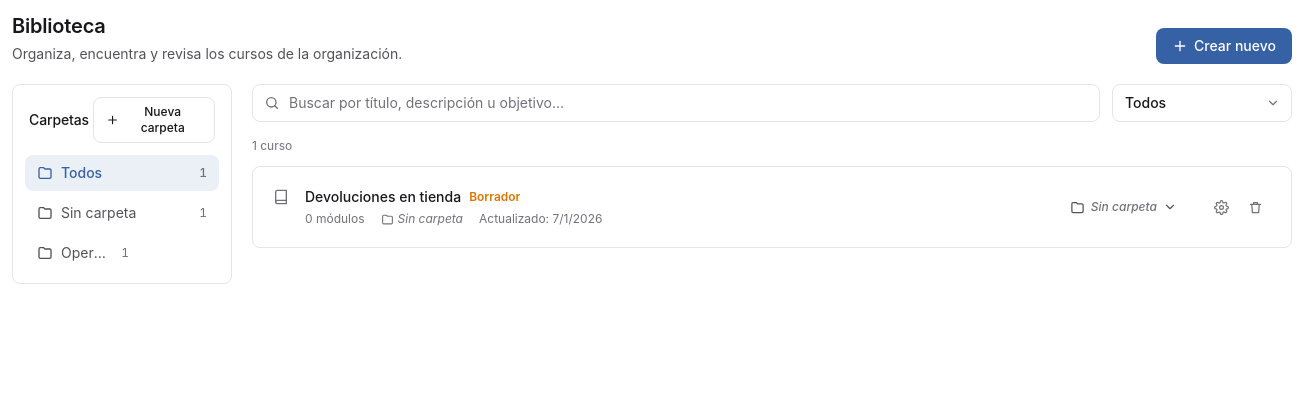
Test: Content — deleting a course › deletes the course and refreshes the list once confirmed
The image size is (1304, 398).
Click the button named "Eliminar Devoluciones en tienda" at (1255, 207), box [1239,191,1271,223]
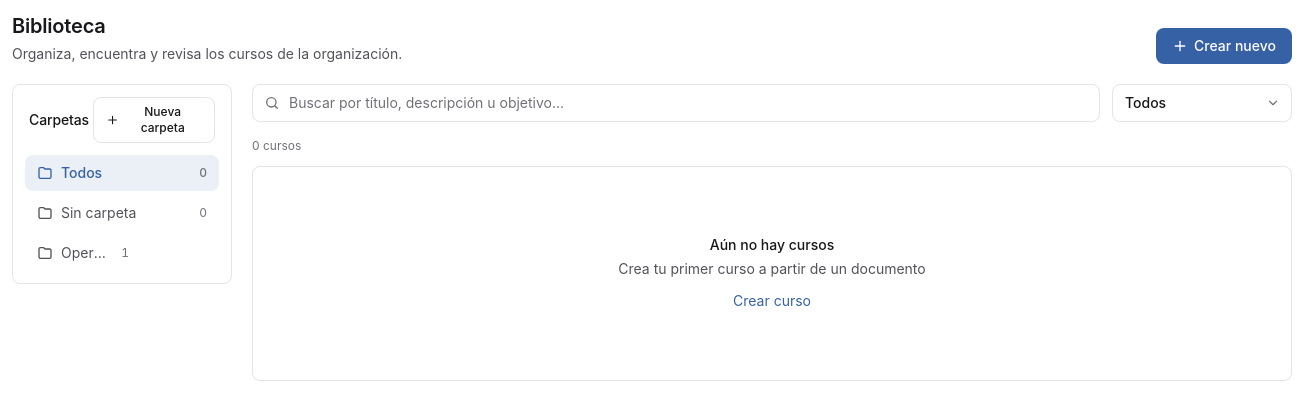
Expected: the text "Aún no hay cursos" is shown, [710,236,834,253]
